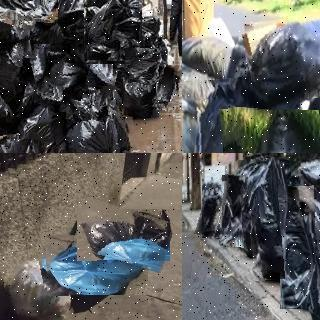Garbage: (244, 12, 320, 106), (74, 203, 173, 267), (237, 158, 288, 282), (46, 234, 147, 296), (182, 78, 258, 153), (279, 186, 317, 309), (3, 254, 73, 320), (220, 108, 320, 153), (61, 99, 139, 153), (31, 42, 87, 106), (62, 62, 116, 121), (16, 103, 72, 153), (0, 0, 37, 62), (84, 0, 142, 39), (198, 178, 227, 239), (221, 175, 244, 247), (123, 74, 159, 118), (88, 17, 121, 61), (123, 47, 161, 85), (153, 64, 182, 111)
